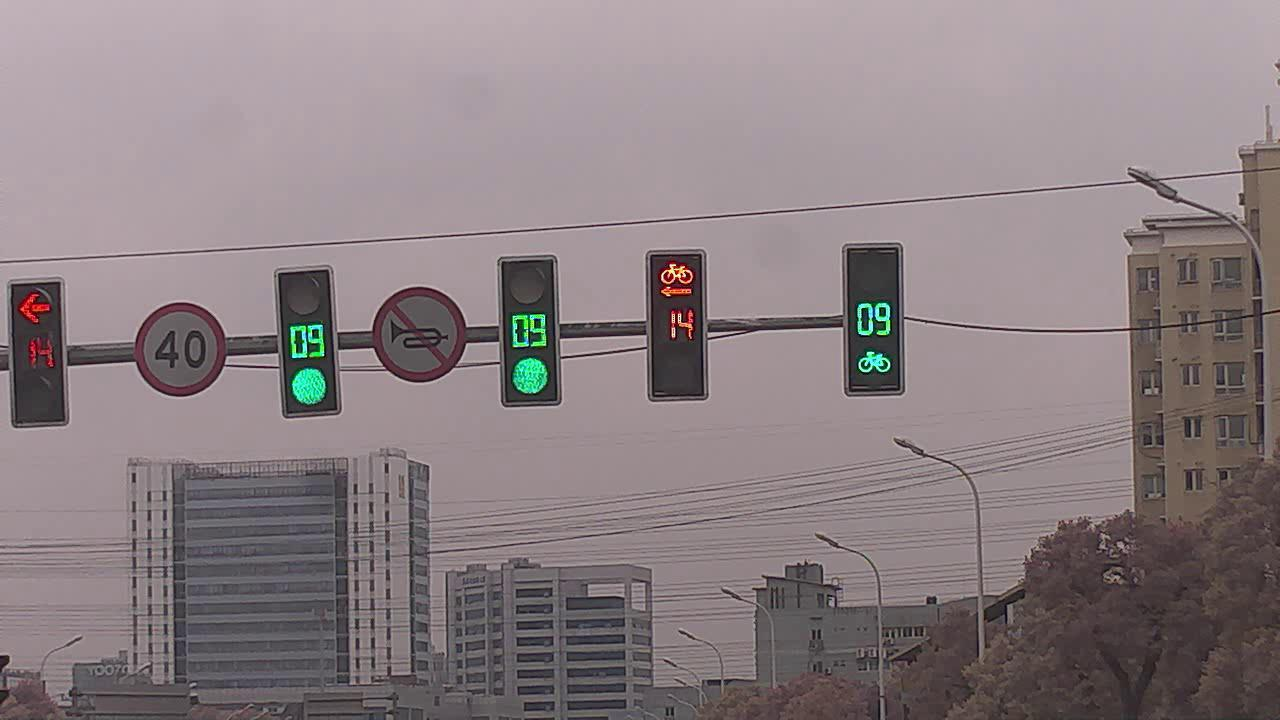traffic_light: (278, 270, 344, 421), (846, 241, 905, 394), (651, 250, 711, 399), (501, 256, 563, 398), (12, 281, 68, 434)
